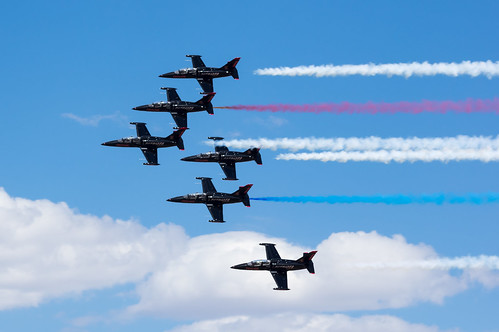plane: (163, 177, 252, 225), (230, 242, 315, 291), (179, 136, 263, 181), (100, 121, 183, 163), (159, 54, 241, 95), (129, 86, 217, 124)
